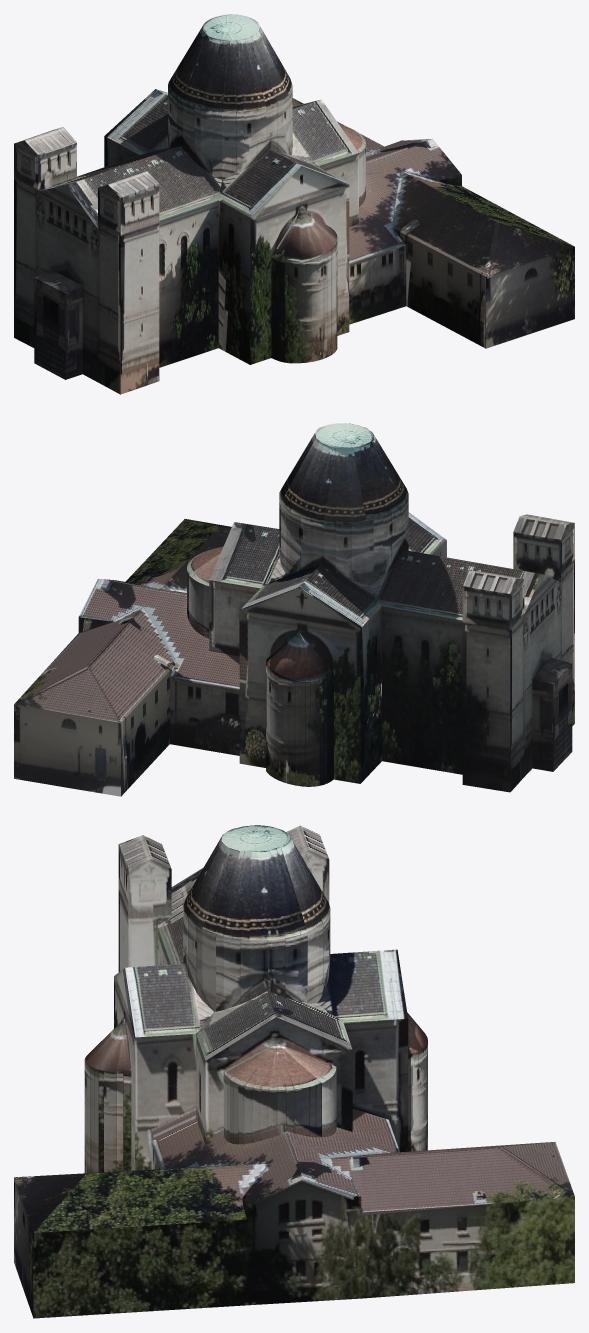
3 views of the same model, one above another, from view 1: azimuth 30°, elevation 25°; view 2: azimuth 150°, elevation 25°; view 3: azimuth 270°, elevation 25° (orthographic). The views are drawn at different scales.
Visible parts, largest first — view 1: Z_UP; view 2: Z_UP; view 3: Z_UP.
Boxes of the visible parts, x1=… form: Z_UP: x1=14, y1=14, x2=574, y2=394; Z_UP: x1=14, y1=423, x2=574, y2=796; Z_UP: x1=14, y1=825, x2=574, y2=1318.
Bounding box in the file's own units: 45.66 × 27.57 × 41.57.
2 materials, 1 textured.
